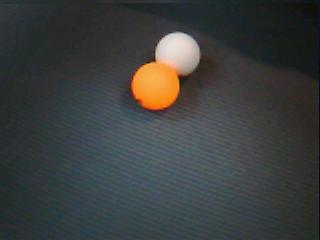oball: (132, 61, 181, 111)
